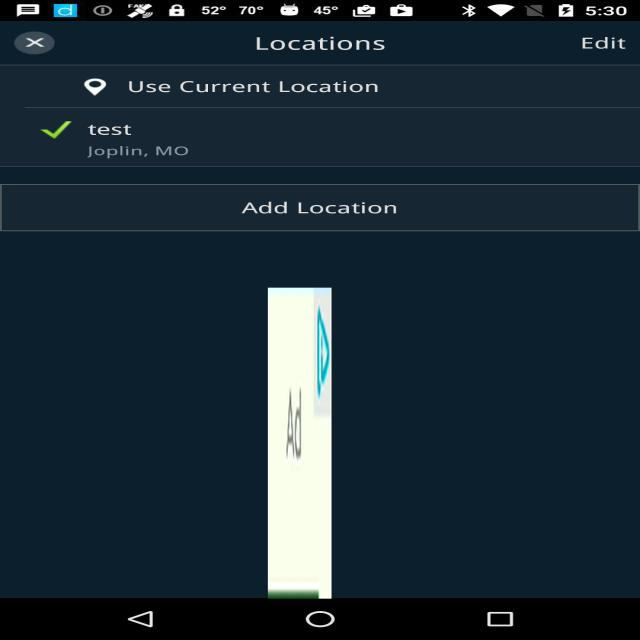sneaking: (268, 287, 332, 598)
